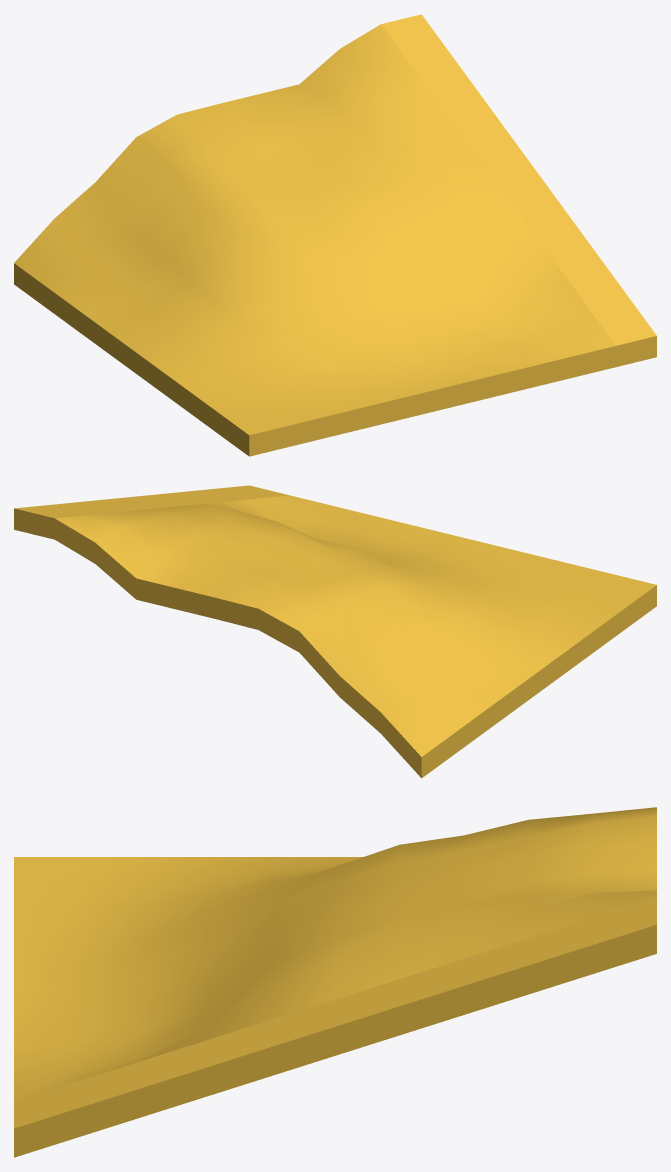
File: Flach - Mitte - Ecke b - x.fbx
3 views of the same model, one above another, from view 1: azimuth 30°, elevation 25°; view 2: azimuth 150°, elevation 25°; view 3: azimuth 270°, elevation 25° (orthographic). The views are drawn at different scales.
Visible parts, largest first — view 1: Flach - Mitte - Ecke b - x; view 2: Flach - Mitte - Ecke b - x; view 3: Flach - Mitte - Ecke b - x.
Boxes of the visible parts, box(x1,y1,x2,y2) form: Flach - Mitte - Ecke b - x: box(14, 14, 656, 456); Flach - Mitte - Ecke b - x: box(14, 485, 656, 778); Flach - Mitte - Ecke b - x: box(14, 807, 656, 1157).
Bounding box in the file's own units: 394 × 157 × 394.
